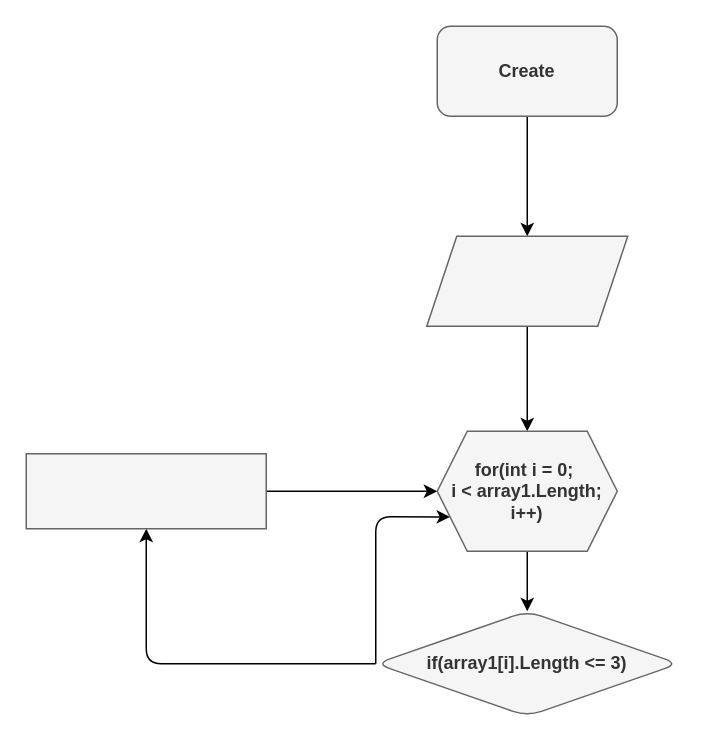
This 705x743 diagram has some shape labels left out. The centre of each missing label's shape, as x and y in pixels:
array2[count] = array1[i] count++;: point (145, 490)
string[ ] array1 string[ ] array2 int count = 0: point (526, 280)
